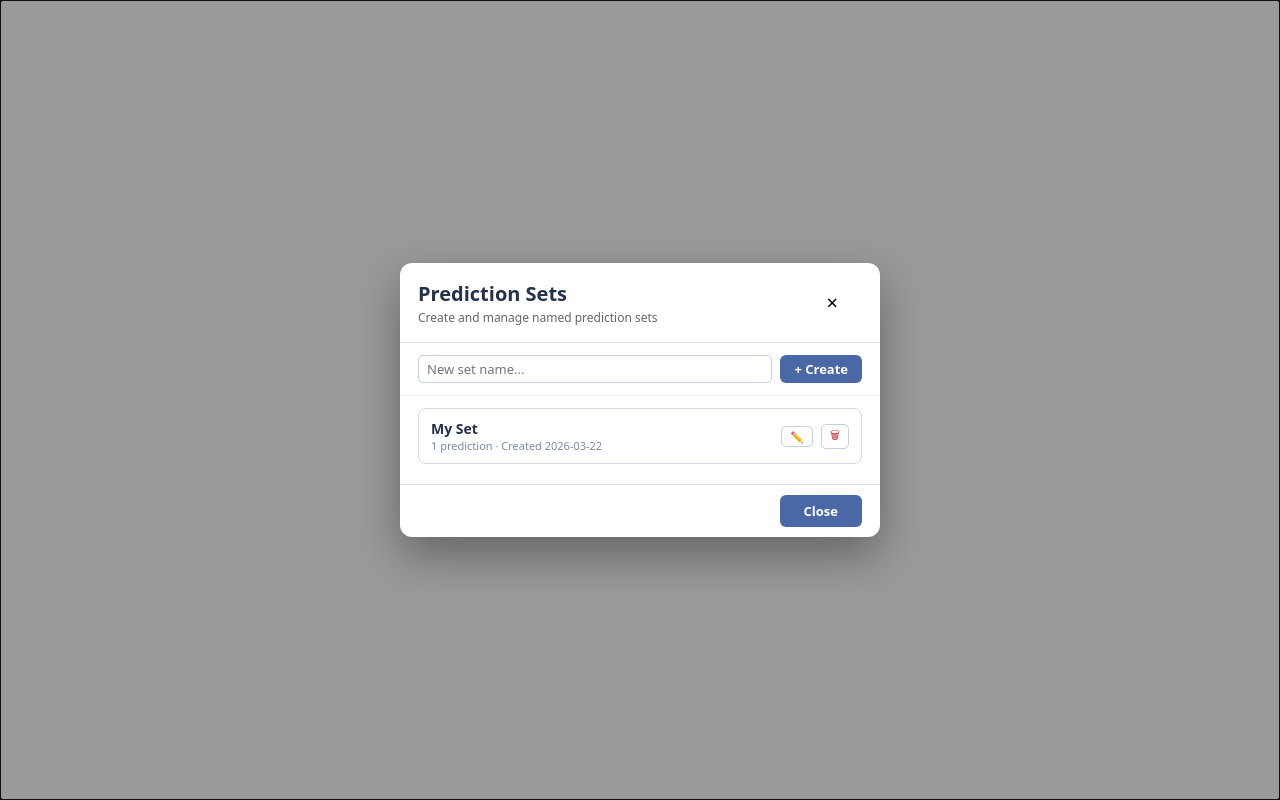
Test: PredictionsPanel › expands a prediction card to show conditions and outcomes
What coordinates should you click on to do the following:
click the text "My Set"
I would click on:
 (454, 428)
Its box is [431,419,478,438].
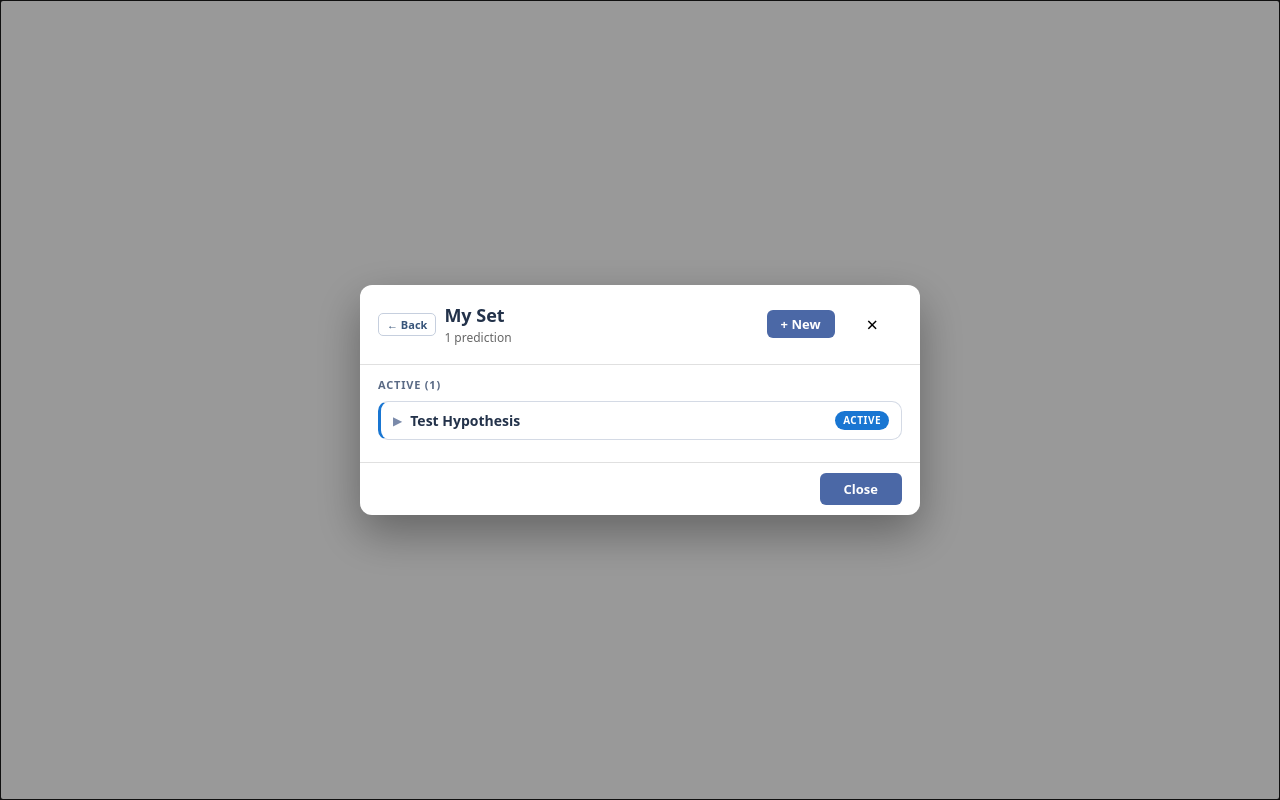
What coordinates should you click on to do the following:
click the text "Test Hypothesis"
I would click on:
 (465, 421)
Its box is [410,411,520,430].
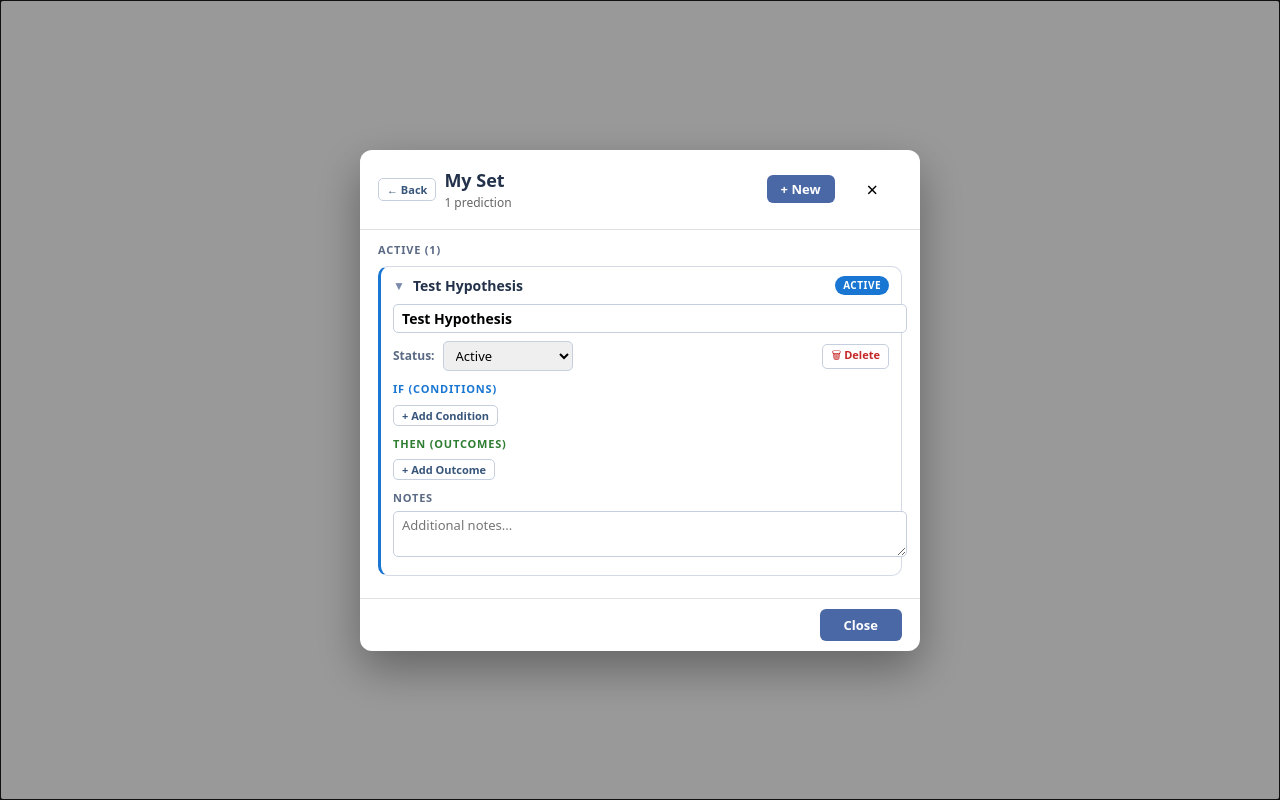
Expected: the text "IF (Conditions)" is shown, [393,381,497,396]
Expected: the text "THEN (Outcomes)" is shown, [393,436,507,450]
Expected: the button "+ Add Condition" is shown, [393,404,498,426]
